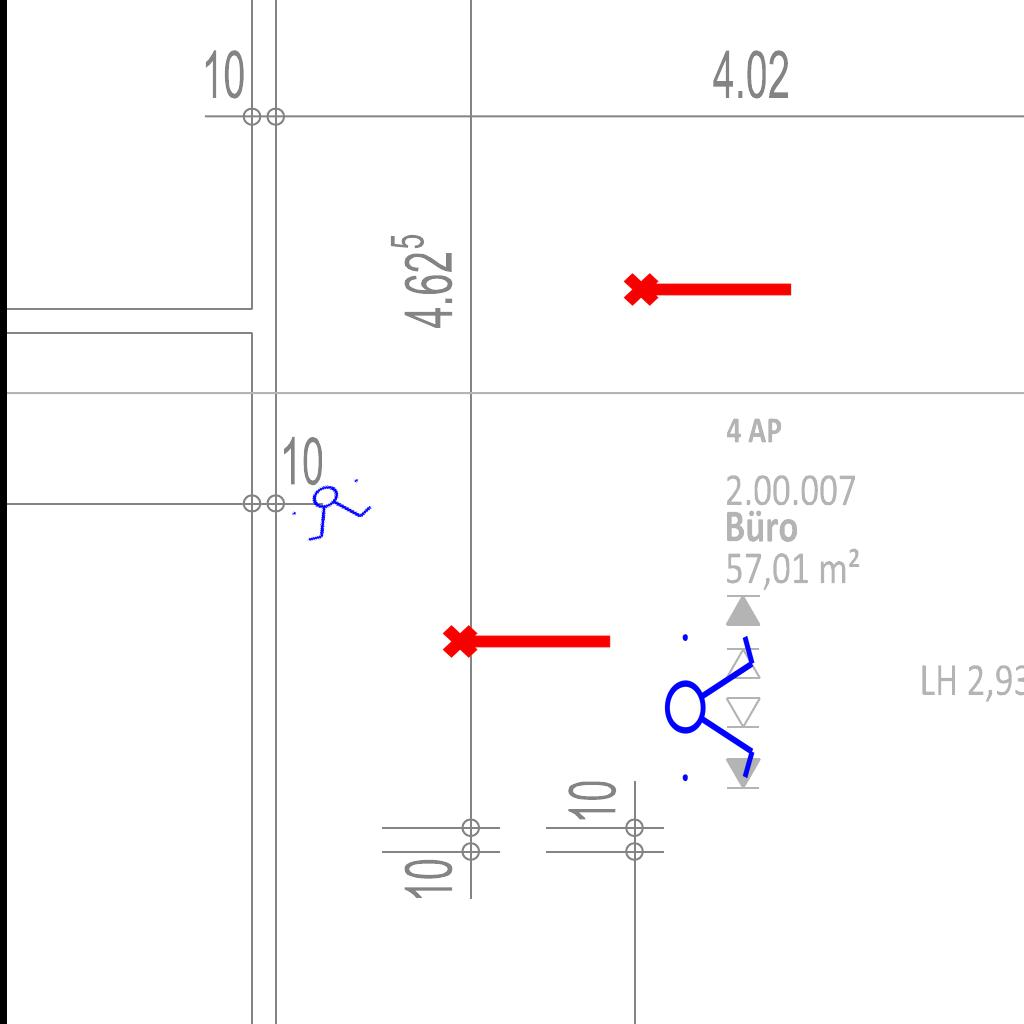ASR_Ansaugoeffnung: (440, 616, 616, 662), (621, 264, 797, 310)
Serienschalter: (663, 622, 759, 790), (283, 467, 381, 549)
